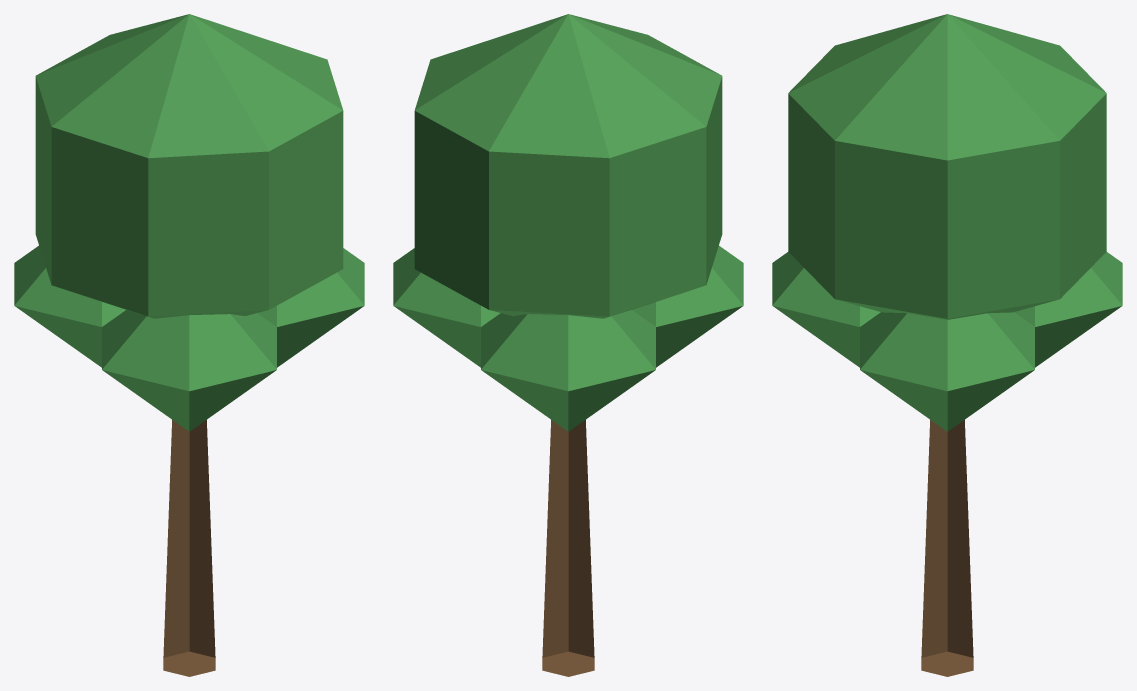
The model's file is resource_wildwood.glb.
3 views of the same model, side by side, from view 1: azimuth 30°, elevation 25°; view 2: azimuth 150°, elevation 25°; view 3: azimuth 270°, elevation 25° (orthographic).
Parts seen in each view (by area): view 1: resource_wildwood; view 2: resource_wildwood; view 3: resource_wildwood.
Boxes of the visible parts, box(x1,y1,x2,y2) form: resource_wildwood: box(14, 14, 364, 676); resource_wildwood: box(393, 14, 743, 676); resource_wildwood: box(772, 14, 1122, 676).
Size of the model in its own units: 0.5041 by 1 by 0.4885.
